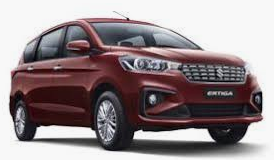car: (7, 11, 264, 154)
